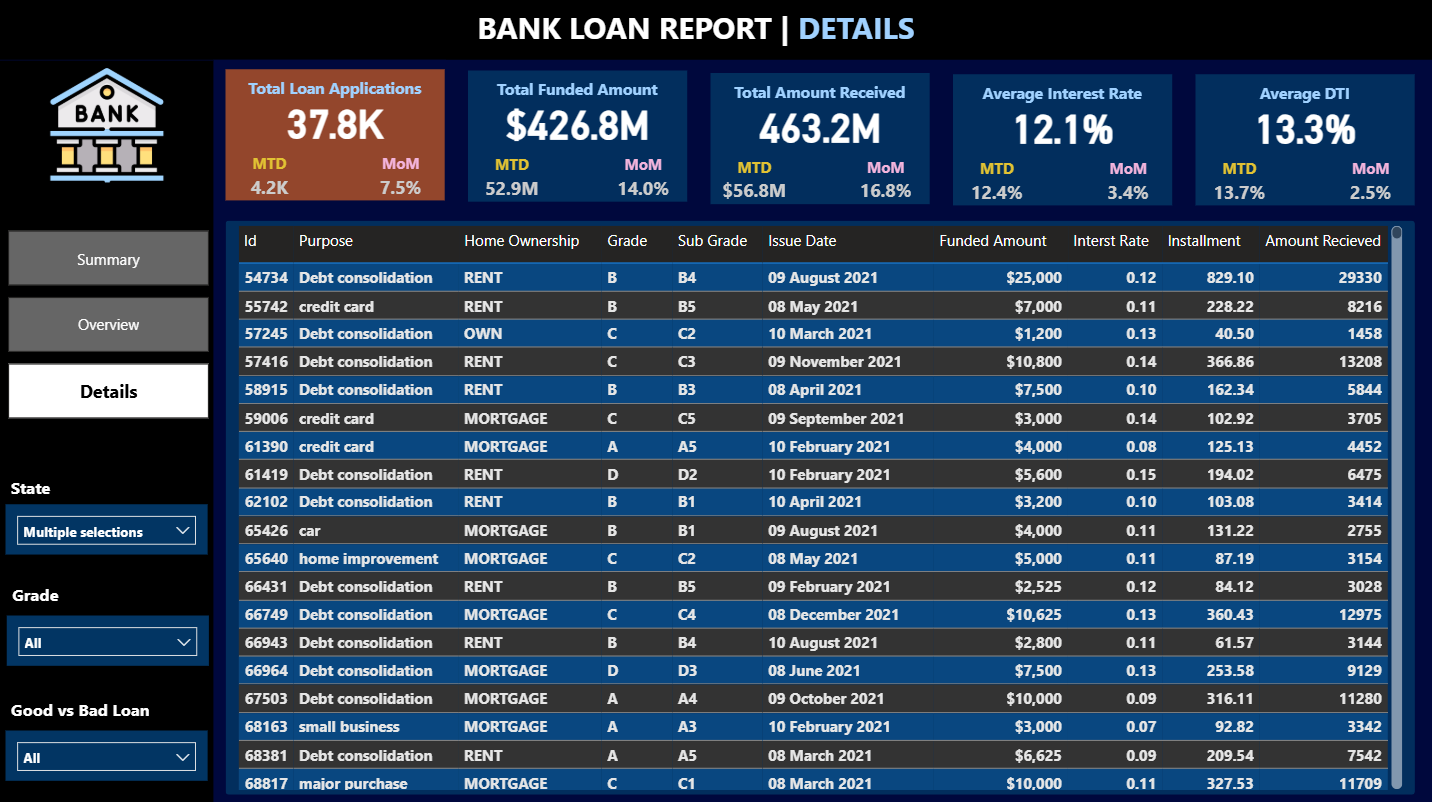

The dashboard page shown, as its layout file describes it:
{"tool":"powerbi","page":{"name":"Details","canvas":[1280,720],"ordinal":2},"visuals":[{"type":"shape","box":[0,55.5,191.8,664.7],"z":0},{"type":"shape","box":[202.7,63.9,195.4,117],"z":0,"group":"g3"},{"type":"shape","box":[419.1,64.1,195.4,117],"z":0,"group":"g4"},{"type":"shape","box":[634.8,66.6,195.4,117],"z":0,"group":"g5"},{"type":"shape","box":[850.5,67.9,195.4,117],"z":0,"group":"g6"},{"type":"shape","box":[1066.2,67.9,195.4,117],"z":0,"group":"g7"},{"type":"shape","box":[0,0,1280,55],"z":1000},{"type":"card","fields":{"Values":["bank_loan_data.Total Loan Applications"]},"box":[202.7,88,195.4,43.4],"z":1000,"group":"g3"},{"type":"card","fields":{"Values":["bank_loan_data.Total Funded Amount"]},"box":[419.1,88.2,195.4,43.4],"z":1000,"group":"g4"},{"type":"card","fields":{"Values":["bank_loan_data.Total Amount Recieved"]},"box":[634.8,90.7,195.4,43.4],"z":1000,"group":"g5"},{"type":"card","fields":{"Values":["bank_loan_data.Average Interest Rate"]},"box":[850.5,92,195.4,43.4],"z":1000,"group":"g6"},{"type":"card","fields":{"Values":["bank_loan_data.Average DTI"]},"box":[1066.2,92,195.4,43.4],"z":1000,"group":"g7"},{"type":"textbox","box":[208.7,66.3,183.4,31.4],"z":2000,"group":"g3"},{"type":"textbox","box":[425.1,66.5,183.4,31.4],"z":2000,"group":"g4"},{"type":"textbox","box":[640.8,69,183.4,31.4],"z":2000,"group":"g5"},{"type":"textbox","box":[856.5,70.3,183.4,31.4],"z":2000,"group":"g6"},{"type":"textbox","box":[1072.2,70.3,183.4,31.4],"z":2000,"group":"g7"},{"type":"shape","box":[202.7,197.9,1059.3,511.5],"z":2000},{"type":"textbox","box":[422.3,3.6,437.9,48.3],"z":3000},{"type":"card","title":"MTD","fields":{"Values":["bank_loan_data.MTD Loan Applications"]},"box":[202.7,138.7,78.4,47.1],"z":3000,"group":"g3"},{"type":"card","title":"MTD","fields":{"Values":["bank_loan_data.MTD Funded Amount"]},"box":[419.1,138.9,78.4,47.1],"z":3000,"group":"g4"},{"type":"card","title":"MTD","fields":{"Values":["bank_loan_data.MTD Total Amount Recieved"]},"box":[634.8,141.4,78.4,47.1],"z":3000,"group":"g5"},{"type":"card","title":"MTD","fields":{"Values":["bank_loan_data.MTD Average Int. Rate"]},"box":[850.5,142.7,78.4,47.1],"z":3000,"group":"g6"},{"type":"card","title":"MTD","fields":{"Values":["bank_loan_data.MTD Average DTI"]},"box":[1066.2,142.7,78.4,47.1],"z":3000,"group":"g7"},{"type":"group","id":"g1","title":"Group 1","box":[202.7,63.9,195.4,121.9],"z":4000},{"type":"card","title":"MoM","fields":{"Values":["bank_loan_data.MoM Loan Applications"]},"box":[319.7,138.7,78.4,47.1],"z":4000,"group":"g3"},{"type":"card","title":"MoM","fields":{"Values":["bank_loan_data.MoM Total Funded Amount"]},"box":[536.1,138.9,78.4,47.1],"z":4000,"group":"g4"},{"type":"card","title":"MoM","fields":{"Values":["bank_loan_data.MoM Total Recieved Amount"]},"box":[751.8,141.4,78.4,47.1],"z":4000,"group":"g5"},{"type":"card","title":"MoM","fields":{"Values":["bank_loan_data.MoM Avg Int. Rate"]},"box":[967.5,142.7,78.4,47.1],"z":4000,"group":"g6"},{"type":"card","title":"MoM","fields":{"Values":["bank_loan_data.MoM Average DTI"]},"box":[1183.2,142.7,78.4,47.1],"z":4000,"group":"g7"},{"type":"group","id":"g2","title":"Group 1","box":[419.1,64.1,194.8,121.7],"z":5000},{"type":"group","id":"g3","title":"Group 2","box":[202.7,63.9,195.4,121.9],"z":5004,"group":"g1"},{"type":"group","id":"g4","title":"Group 2","box":[419.1,64.1,195.4,121.9],"z":5004,"group":"g2"},{"type":"group","id":"g5","title":"Group 2","box":[634.8,66.6,195.4,121.9],"z":5004,"group":"g8"},{"type":"group","id":"g6","title":"Group 2","box":[850.5,67.9,195.4,121.9],"z":5004,"group":"g9"},{"type":"group","id":"g7","title":"Group 2","box":[1066.2,67.9,195.4,121.9],"z":5004,"group":"g10"},{"type":"group","id":"g8","title":"Group 1","box":[634.8,66.6,194.8,121.7],"z":6000},{"type":"group","id":"g9","title":"Group 1","box":[850.5,67.9,194.8,121.7],"z":7000},{"type":"group","id":"g10","title":"Group 1","box":[1066.2,67.9,194.8,121.7],"z":8000},{"type":"slicer","fields":{"Values":["bank_loan_data.address_state"]},"box":[7,450.5,179.8,44.6],"z":9000},{"type":"textbox","box":[6.8,420.6,56.7,32.6],"z":10000},{"type":"slicer","fields":{"Values":["bank_loan_data.grade"]},"box":[7.2,549.4,179.8,44.6],"z":11000},{"type":"textbox","box":[7.2,516.8,65.1,32.6],"z":12000},{"type":"textbox","box":[7,619.4,161.7,32.6],"z":13000},{"type":"slicer","fields":{"Values":["bank_loan_data.Good vs Bad Loan"]},"box":[7,652,179.8,44.6],"z":14000},{"type":"tableEx","fields":{"Values":["bank_loan_data.id","bank_loan_data.purpose","bank_loan_data.home_ownership","bank_loan_data.grade","bank_loan_data.sub_grade","bank_loan_data.issue_date","bank_loan_data.Total Funded Amount","Sum(bank_loan_data.int_rate)","Sum(bank_loan_data.installment)","bank_loan_data.Total Amount Recieved"]},"box":[208.7,197.9,1047.2,511.5],"z":15000},{"type":"pageNavigator","box":[8.4,207.5,179.8,168.9],"z":16000},{"type":"image","box":[38.6,54.3,115.8,115.8],"z":17000}]}

Visuals, with their boxes in screenshot pixels (x1, y1, x2, y2), scaled from the page's 1280x720 canvas onto the 1432x802 screenshot:
shape: x1=0 y1=62 x2=215 y2=801
shape: x1=227 y1=71 x2=445 y2=202
shape: x1=469 y1=71 x2=687 y2=202
shape: x1=710 y1=74 x2=929 y2=205
shape: x1=951 y1=76 x2=1170 y2=206
shape: x1=1193 y1=76 x2=1411 y2=206
shape: x1=0 y1=0 x2=1431 y2=61
card - bank_loan_data.Total Loan Applications: x1=227 y1=98 x2=445 y2=146
card - bank_loan_data.Total Funded Amount: x1=469 y1=98 x2=687 y2=147
card - bank_loan_data.Total Amount Recieved: x1=710 y1=101 x2=929 y2=149
card - bank_loan_data.Average Interest Rate: x1=951 y1=102 x2=1170 y2=151
card - bank_loan_data.Average DTI: x1=1193 y1=102 x2=1411 y2=151
textbox: x1=233 y1=74 x2=439 y2=109
textbox: x1=476 y1=74 x2=681 y2=109
textbox: x1=717 y1=77 x2=922 y2=112
textbox: x1=958 y1=78 x2=1163 y2=113
textbox: x1=1200 y1=78 x2=1405 y2=113
shape: x1=227 y1=220 x2=1412 y2=790
textbox: x1=472 y1=4 x2=962 y2=58
"MTD" card: x1=227 y1=154 x2=314 y2=207
"MTD" card: x1=469 y1=155 x2=557 y2=207
"MTD" card: x1=710 y1=158 x2=798 y2=210
"MTD" card: x1=951 y1=159 x2=1039 y2=211
"MTD" card: x1=1193 y1=159 x2=1281 y2=211
"Group 1" group: x1=227 y1=71 x2=445 y2=207
"MoM" card: x1=358 y1=154 x2=445 y2=207
"MoM" card: x1=600 y1=155 x2=687 y2=207
"MoM" card: x1=841 y1=158 x2=929 y2=210
"MoM" card: x1=1082 y1=159 x2=1170 y2=211
"MoM" card: x1=1324 y1=159 x2=1411 y2=211
"Group 1" group: x1=469 y1=71 x2=687 y2=207
"Group 2" group: x1=227 y1=71 x2=445 y2=207
"Group 2" group: x1=469 y1=71 x2=687 y2=207
"Group 2" group: x1=710 y1=74 x2=929 y2=210
"Group 2" group: x1=951 y1=76 x2=1170 y2=211
"Group 2" group: x1=1193 y1=76 x2=1411 y2=211
"Group 1" group: x1=710 y1=74 x2=928 y2=210
"Group 1" group: x1=951 y1=76 x2=1169 y2=211
"Group 1" group: x1=1193 y1=76 x2=1411 y2=211
slicer - bank_loan_data.address_state: x1=8 y1=502 x2=209 y2=551
textbox: x1=8 y1=469 x2=71 y2=505
slicer - bank_loan_data.grade: x1=8 y1=612 x2=209 y2=662
textbox: x1=8 y1=576 x2=81 y2=612
textbox: x1=8 y1=690 x2=189 y2=726
slicer - bank_loan_data.Good vs Bad Loan: x1=8 y1=726 x2=209 y2=776
tableEx - bank_loan_data.id x bank_loan_data.purpose: x1=233 y1=220 x2=1405 y2=790
pageNavigator: x1=9 y1=231 x2=211 y2=419
image: x1=43 y1=60 x2=173 y2=189
